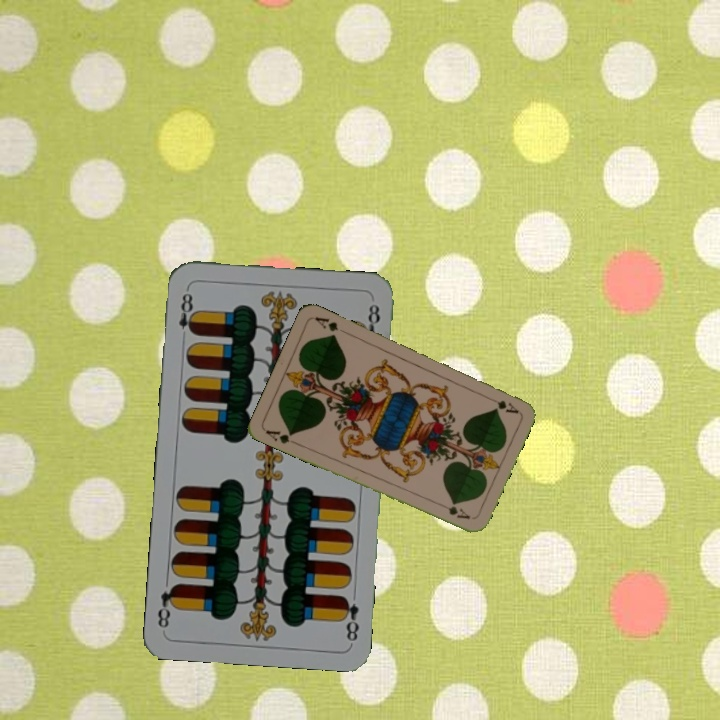E8: (337, 592, 362, 644), (175, 285, 199, 337)
GA: (483, 392, 521, 416), (261, 426, 300, 447)
